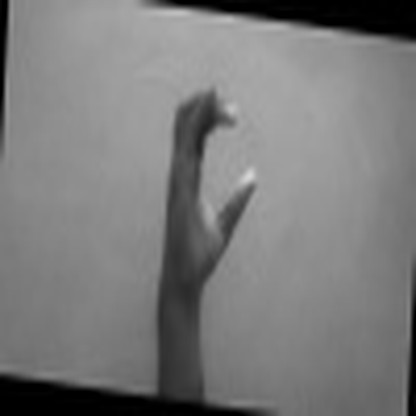c: (150, 81, 271, 276)
